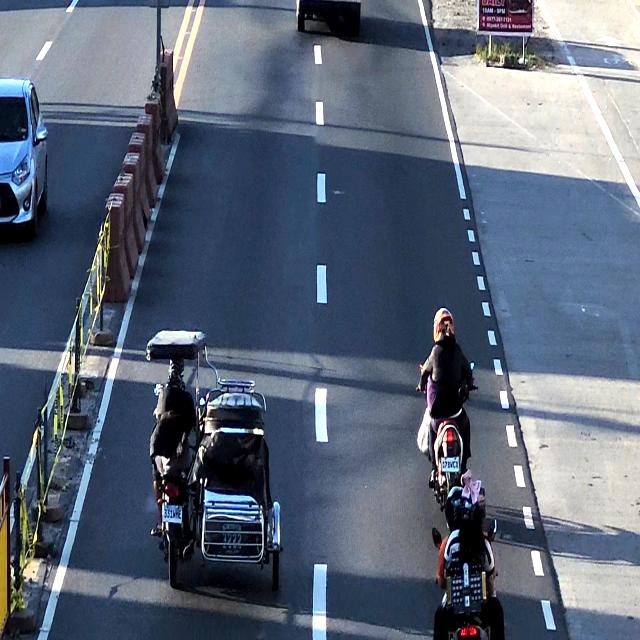License-Plate: (160, 500, 185, 525), (440, 454, 462, 476)
Motorcycle: (437, 482, 507, 640), (424, 310, 470, 475)
Tricycle: (145, 328, 282, 592)
